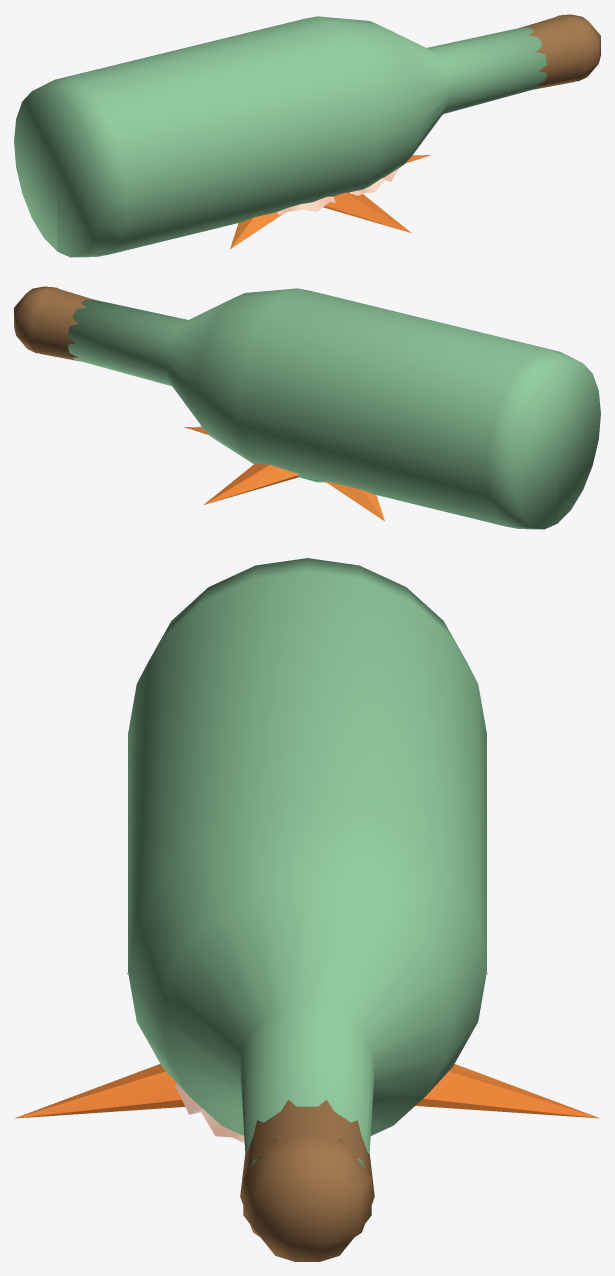
File: BeachKit.glb
3 renders of one model, top to bottom at view 1: azimuth 30°, elevation 25°; view 2: azimuth 150°, elevation 25°; view 3: azimuth 270°, elevation 25°, orthographic. The views are drawn at different scales.
Parts seen in each view (by area): view 1: BottleGlass, Cork, Star, ShellFan; view 2: BottleGlass, Cork, Star; view 3: BottleGlass, Cork, Star.
Part boxes in pixels (<box>): BottleGlass: <box>14,16,546,257</box>; Cork: <box>519,14,600,89</box>; Star: <box>230,155,430,249</box>; ShellFan: <box>277,164,404,214</box>; BottleGlass: <box>68,288,600,529</box>; Cork: <box>14,286,95,361</box>; Star: <box>184,427,384,521</box>; BottleGlass: <box>128,558,486,1168</box>; Cork: <box>240,1099,374,1261</box>; Star: <box>14,973,600,1118</box>.
Bounding box in the file's own units: 0.2159 × 0.065 × 0.1046.
